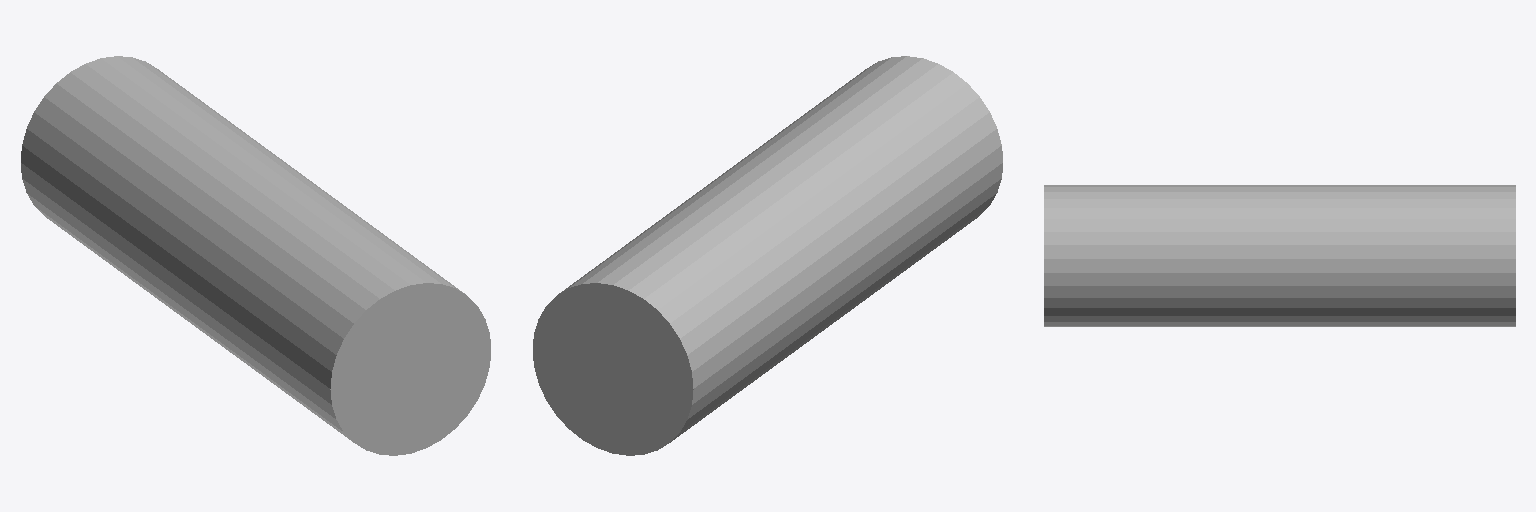
URDF robot description (gen3_robotiq_2f_85):
<?xml version="1.0" ?>
<!-- =================================================================================== -->
<!-- |    This document was autogenerated by xacro from gen3_robotiq_2f_85.xacro       | -->
<!-- |    EDITING THIS FILE BY HAND IS NOT RECOMMENDED                                 | -->
<!-- =================================================================================== -->
<robot name="gen3_robotiq_2f_85">
  <!-- Run the macros -->

  <link name="base">
    <inertial>
      <origin rpy="0 0 0" xyz="-0.000648 -0.000166 0.084487"/>
      <mass value="1.697"/>
      <inertia ixx="0.004622" ixy="9E-06" ixz="6E-05" iyy="0.004495" iyz="9E-06" izz="0.002079"/>
    </inertial>
    <visual>
      <origin rpy="0 0 0" xyz="0 0 0"/>
      <geometry>
        <mesh filename="meshes/base_link.stl"/>
      </geometry>
      <material name="">
        <color rgba="0.75294 0.75294 0.75294 1"/>
      </material>
    </visual>
    <collision>
      <origin rpy="0 0 0" xyz="0 0 0"/>
      <geometry>
        <mesh filename="meshes/base_link.stl"/>
      </geometry>
    </collision>
  </link>

  <link name="shoulder_link">
    <inertial>
      <origin rpy="0 0 0" xyz="-2.3E-05 -0.010364 -0.07336"/>
      <mass value="1.3773"/>
      <inertia ixx="0.00457" ixy="1E-06" ixz="2E-06" iyy="0.004831" iyz="0.000448" izz="0.001409"/>
    </inertial>
    <visual>
      <origin rpy="0 0 0" xyz="0 0 0"/>
      <geometry>
        <mesh filename="meshes/shoulder_link.stl"/>
      </geometry>
      <material name="">
        <color rgba="0.75294 0.75294 0.75294 1"/>
      </material>
    </visual>
    <collision>
      <origin rpy="0 0 0" xyz="0 0 0"/>
      <geometry>
        <mesh filename="meshes/shoulder_link.stl"/>
      </geometry>
    </collision>
  </link>

  <joint name="joint_1" type="continuous">
    <origin rpy="3.1416 2.7629E-18 -4.9305E-36" xyz="0 0 0.15643"/>
    <parent link="base"/>
    <child link="shoulder_link"/>
    <axis xyz="0 0 1"/>
    <limit effort="39" velocity="1.3963"/>
  </joint>

  <link name="half_arm_1_link">
    <inertial>
      <origin rpy="0 0 0" xyz="-4.4E-05 -0.09958 -0.013278"/>
      <mass value="1.1636"/>
      <inertia ixx="0.011088" ixy="5E-06" ixz="0" iyy="0.001072" iyz="-0.000691" izz="0.011255"/>
    </inertial>
    <visual>
      <origin rpy="0 0 0" xyz="0 0 0"/>
      <geometry>
        <mesh filename="meshes/half_arm_1_link.stl"/>
      </geometry>
      <material name="">
        <color rgba="0.75294 0.75294 0.75294 1"/>
      </material>
    </visual>
    <collision>
      <origin rpy="0 0 0" xyz="0 0 0"/>
      <geometry>
        <mesh filename="meshes/half_arm_1_link.stl"/>
      </geometry>
    </collision>
  </link>

  <joint name="joint_2" type="revolute">
    <origin rpy="1.5708 2.1343E-17 -1.1102E-16" xyz="0 0.005375 -0.12838"/>
    <parent link="shoulder_link"/>
    <child link="half_arm_1_link"/>
    <axis xyz="0 0 1"/>
    <limit effort="39" lower="-2.41" upper="2.41" velocity="1.3963"/>
  </joint>

  <link name="half_arm_2_link">
    <inertial>
      <origin rpy="0 0 0" xyz="-4.4E-05 -0.006641 -0.117892"/>
      <mass value="1.1636"/>
      <inertia ixx="0.010932" ixy="0" ixz="-7E-06" iyy="0.011127" iyz="0.000606" izz="0.001043"/>
    </inertial>
    <visual>
      <origin rpy="0 0 0" xyz="0 0 0"/>
      <geometry>
        <mesh filename="meshes/half_arm_2_link.stl"/>
      </geometry>
      <material name="">
        <color rgba="0.75294 0.75294 0.75294 1"/>
      </material>
    </visual>
    <collision>
      <origin rpy="0 0 0" xyz="0 0 0"/>
      <geometry>
        <mesh filename="meshes/half_arm_2_link.stl"/>
      </geometry>
    </collision>
  </link>

  <joint name="joint_3" type="continuous">
    <origin rpy="-1.5708 1.2326E-32 -2.9122E-16" xyz="0 -0.21038 -0.006375"/>
    <parent link="half_arm_1_link"/>
    <child link="half_arm_2_link"/>
    <axis xyz="0 0 1"/>
    <limit effort="39" velocity="1.3963"/>
  </joint>

  <link name="forearm_link">
    <inertial>
      <origin rpy="0 0 0" xyz="-1.8E-05 -0.075478 -0.015006"/>
      <mass value="0.9302"/>
      <inertia ixx="0.008147" ixy="-1E-06" ixz="0" iyy="0.000631" iyz="-0.0005" izz="0.008316"/>
    </inertial>
    <visual>
      <origin rpy="0 0 0" xyz="0 0 0"/>
      <geometry>
        <mesh filename="meshes/forearm_link.stl"/>
      </geometry>
      <material name="">
        <color rgba="0.75294 0.75294 0.75294 1"/>
      </material>
    </visual>
    <collision>
      <origin rpy="0 0 0" xyz="0 0 0"/>
      <geometry>
        <mesh filename="meshes/forearm_link.stl"/>
      </geometry>
    </collision>
  </link>

  <joint name="joint_4" type="revolute">
    <origin rpy="1.5708 -6.6954E-17 -1.6653E-16" xyz="0 0.006375 -0.21038"/>
    <parent link="half_arm_2_link"/>
    <child link="forearm_link"/>
    <axis xyz="0 0 1"/>
    <limit effort="39" lower="-2.66" upper="2.66" velocity="1.3963"/>
  </joint>

  <link name="spherical_wrist_1_link">
    <inertial>
      <origin rpy="0 0 0" xyz="1E-06 -0.009432 -0.063883"/>
      <mass value="0.6781"/>
      <inertia ixx="0.001596" ixy="0" ixz="0" iyy="0.001607" iyz="0.000256" izz="0.000399"/>
    </inertial>
    <visual>
      <origin rpy="0 0 0" xyz="0 0 0"/>
      <geometry>
        <mesh filename="meshes/spherical_wrist_1_link.stl"/>
      </geometry>
      <material name="">
        <color rgba="0.75294 0.75294 0.75294 1"/>
      </material>
    </visual>
    <collision>
      <origin rpy="0 0 0" xyz="0 0 0"/>
      <geometry>
        <mesh filename="meshes/spherical_wrist_1_link.stl"/>
      </geometry>
    </collision>
  </link>

  <joint name="joint_5" type="continuous">
    <origin rpy="-1.5708 2.2204E-16 -6.373E-17" xyz="0 -0.20843 -0.006375"/>
    <parent link="forearm_link"/>
    <child link="spherical_wrist_1_link"/>
    <axis xyz="0 0 1"/>
    <limit effort="9" velocity="1.2218"/>
  </joint>

  <link name="spherical_wrist_2_link">
    <inertial>
      <origin rpy="0 0 0" xyz="1E-06 -0.045483 -0.00965"/>
      <mass value="0.6781"/>
      <inertia ixx="0.001641" ixy="0" ixz="0" iyy="0.00041" iyz="-0.000278" izz="0.001641"/>
    </inertial>
    <visual>
      <origin rpy="0 0 0" xyz="0 0 0"/>
      <geometry>
        <mesh filename="meshes/spherical_wrist_2_link.stl"/>
      </geometry>
      <material name="">
        <color rgba="0.75294 0.75294 0.75294 1"/>
      </material>
    </visual>
    <collision>
      <origin rpy="0 0 0" xyz="0 0 0"/>
      <geometry>
        <mesh filename="meshes/spherical_wrist_2_link.stl"/>
      </geometry>
    </collision>
  </link>

  <joint name="joint_6" type="revolute">
    <origin rpy="1.5708 9.2076E-28 -8.2157E-15" xyz="0 0.00017505 -0.10593"/>
    <parent link="spherical_wrist_1_link"/>
    <child link="spherical_wrist_2_link"/>
    <axis xyz="0 0 1"/>
    <limit effort="9" lower="-2.23" upper="2.23" velocity="1.2218"/>
  </joint>

  <link name="bracelet_link">
    <inertial>
      <!-- This is different from the documentation -->
      <origin rpy="0 0 0" xyz="0.000281 0.011402 -0.029798"/>
      <mass value="0.5"/>
      <inertia ixx="0.000587" ixy="3E-06" ixz="3E-06" iyy="0.000369" iyz="-0.000118" izz="0.000609"/>
    </inertial>
    <visual>
      <origin rpy="0 0 0" xyz="0 0 0"/>
      <geometry>
        <mesh filename="meshes/bracelet_with_vision_link.stl"/>
      </geometry>
      <material name="">
        <color rgba="0.75294 0.75294 0.75294 1"/>
      </material>
    </visual>
    <collision>
      <origin rpy="0 0 0" xyz="0 0 0"/>
      <geometry>
        <mesh filename="meshes/bracelet_with_vision_link.stl"/>
      </geometry>
    </collision>
  </link>

  <joint name="joint_7" type="continuous">
    <origin rpy="-1.5708 -5.5511E-17 9.6396E-17" xyz="0 -0.10593 -0.00017505"/>
    <parent link="spherical_wrist_2_link"/>
    <child link="bracelet_link"/>
    <axis xyz="0 0 1"/>
    <limit effort="9" velocity="1.2218"/>
  </joint>

  <link name="gripper_base">
    <inertial>
      <origin rpy="0 0 0" xyz="6.91E-06 4.4117E-06 0.031656"/>
      <mass value="0.60831"/>
      <inertia ixx="0.0004596" ixy="1.5559E-09" ixz="1.397E-07" iyy="0.0005181" iyz="-1.0325E-11" izz="0.00036051"/>
    </inertial>
    <visual>
      <origin rpy="0 0 0" xyz="0 0 0"/>
      <geometry>
        <mesh filename="meshes/base_of_gripper.STL"/>
      </geometry>
      <material name="">
        <color rgba="0.75294 0.75294 0.75294 1"/>
      </material>
    </visual>
    <collision>
      <origin rpy="0 0 0" xyz="0 0 0"/>
      <geometry>
        <mesh filename="meshes/base_of_gripper.STL"/>
      </geometry>
    </collision>
  </link>

  <joint name="gripper_base_joint" type="fixed">
    <parent link="bracelet_link"/>
    <child link="gripper_base"/>
    <origin rpy="1.5708 0.0 0.0" xyz="0.0 0.0 -0.0615250000000001"/>
  </joint>

  <link name="wire_link_base">
    <inertial>
      <origin rpy="0 0 0" xyz="0 0 0"/>
      <mass value=" 0.0001"/>
      <inertia ixx="0.0" ixy="0.0" ixz="0.0" iyy="0.0" iyz="0.0" izz="0.0"/>
    </inertial>
    <visual>
      <origin rpy="0 0 0" xyz="0 0 -0.03"/>
      <geometry>
        <cylinder radius="0.015" length="0.10"/>
      </geometry>
      <material name="">
        <color rgba="0.75294 0.75294 0.75294 1"/>
      </material>
    </visual>
    <collision>
      <origin rpy="0 0 0" xyz="0 0 -0.03"/>
      <geometry>
        <cylinder radius="0.015" length="0.10"/>
      </geometry>
    </collision>
  </link>

  <joint name="wire_joint_base" type="fixed">
    <origin rpy="0 0 0" xyz="0 -0.1 0"/>
    <parent link="gripper_base"/>
    <child link="wire_link_base"/>
    <axis xyz="1 0 0"/>
  </joint>

</robot>

--- Facts derived from the render (not from the file) ---
Views: 3 orthographic renders of the robot side by side, from view 1: azimuth 30°, elevation 25°; view 2: azimuth 150°, elevation 25°; view 3: azimuth 270°, elevation 25°.
Robot: gen3_robotiq_2f_85 — 10 links, 9 joints (3 revolute, 4 continuous, 2 fixed); root link base; default pose: every joint at zero.
Visible links, largest first — view 1: wire_link_base; view 2: wire_link_base; view 3: wire_link_base.
Link boxes in pixels (box(x1,y1,x2,y2)): wire_link_base: box(21, 56, 490, 455); wire_link_base: box(533, 56, 1002, 455); wire_link_base: box(1044, 185, 1515, 326).
Size in the robot's own frame: 0.03 by 0.1 by 0.03 metres.
0 mesh visuals loaded from 9 distinct referenced files (none loaded); not drawn: 9 (reference not matched to a file when rendering).